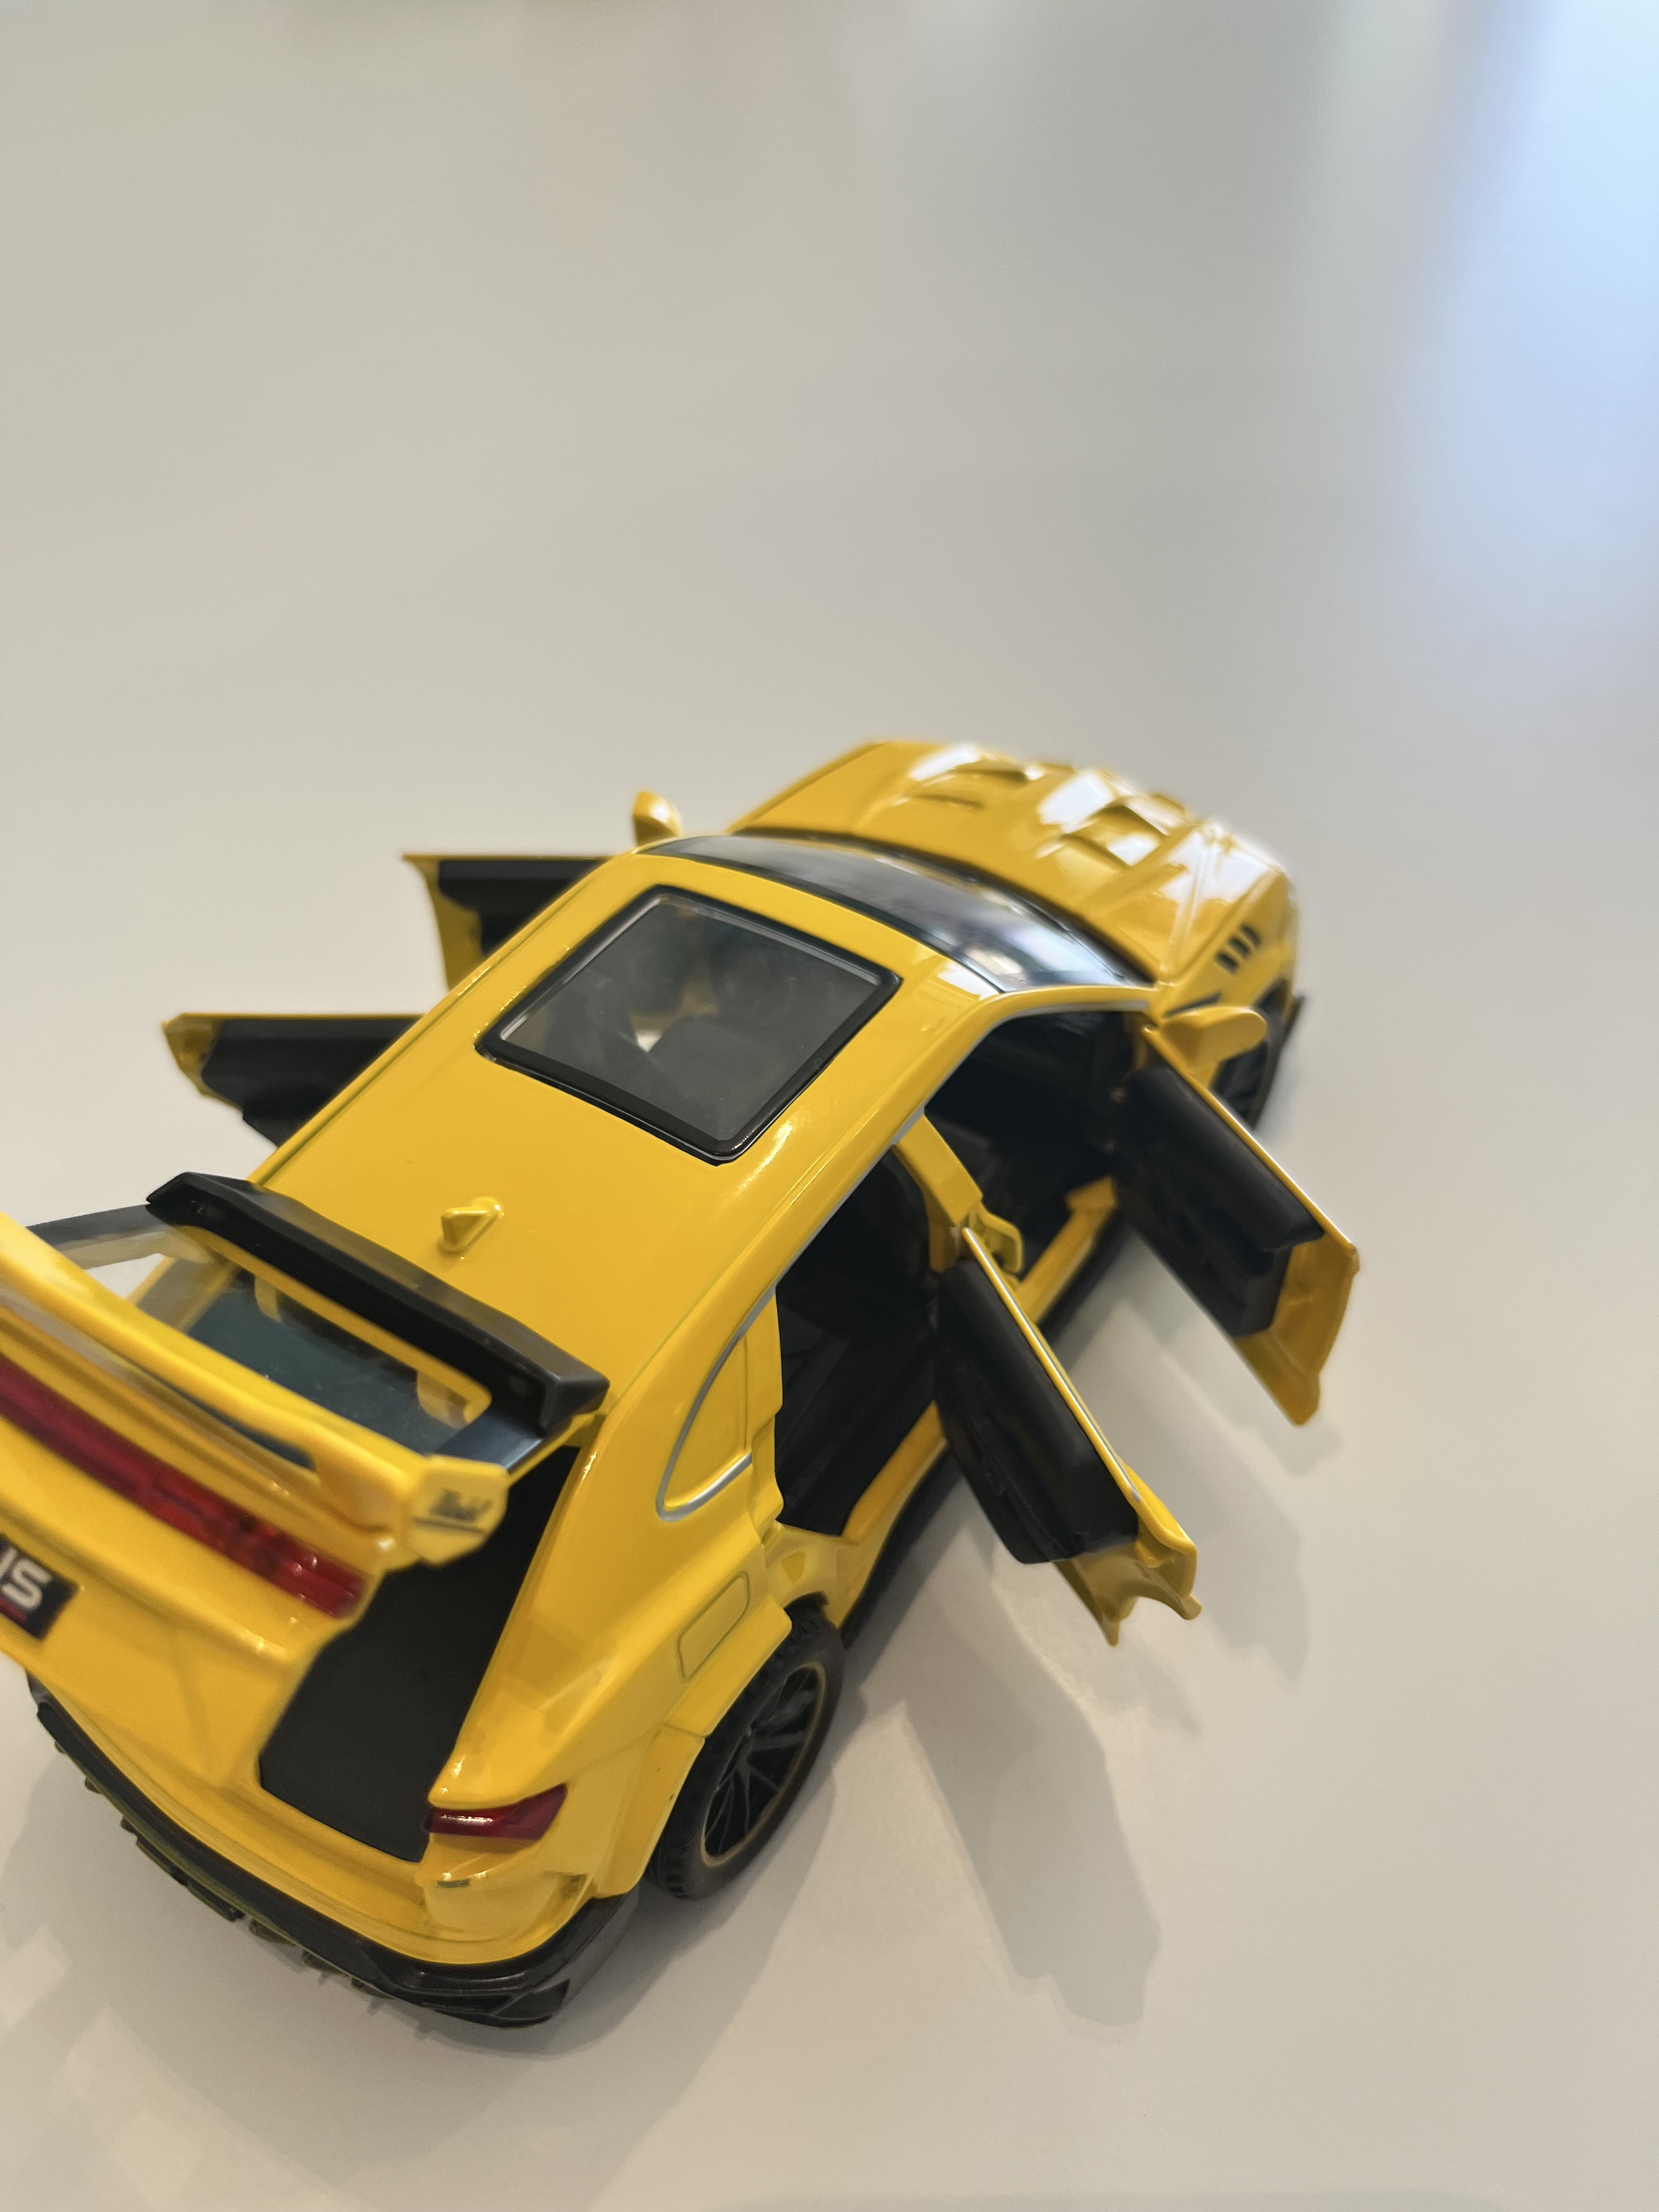lambo: (0, 671, 1406, 2092)
